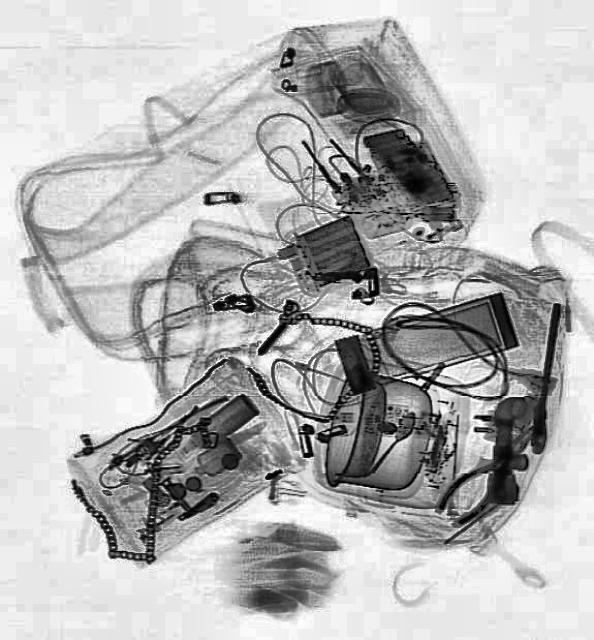Pliers: (429, 410, 552, 532)
